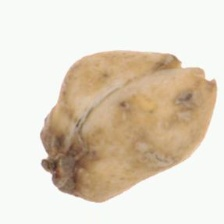L1: (38, 136, 79, 196), (168, 53, 217, 89)
L2: (40, 50, 217, 203)
